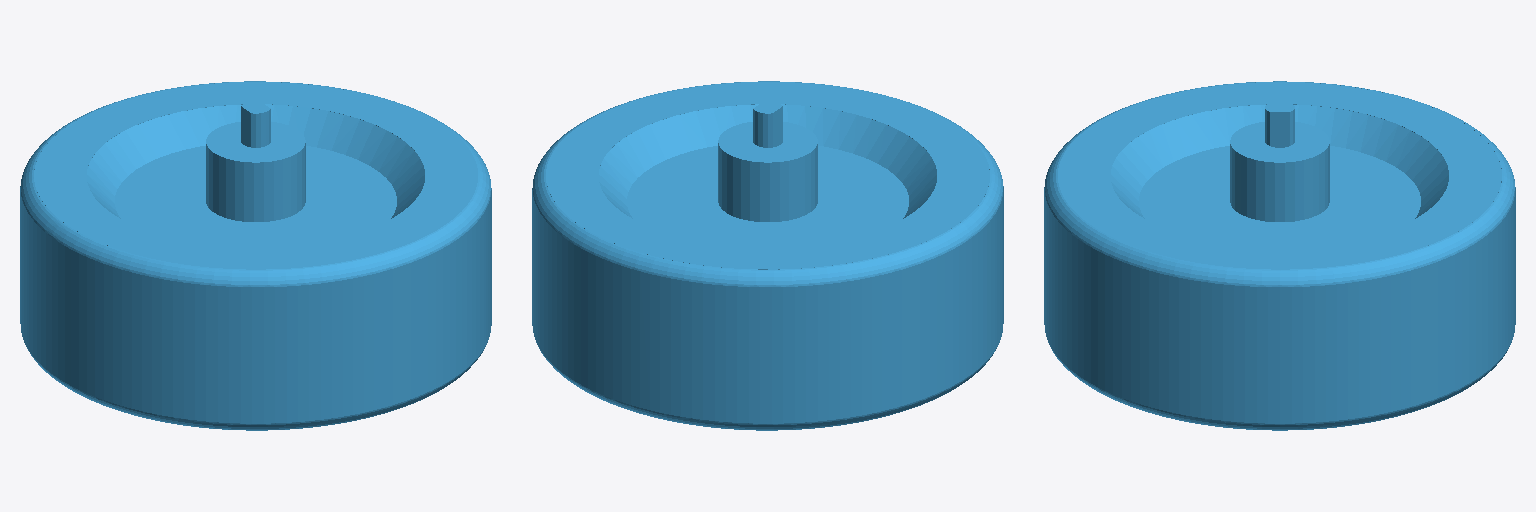
robot.urdf — drive_motor_device:
<?xml version="1.0" ?>
<robot name="drive_motor_device">

  <!-- ==================== Stator (Mount) ==================== -->
  <!-- The non-moving part of the motor that attaches to the robot chassis -->
  <link name="mount" />

  <!-- ==================== Motor Joint ==================== -->
  <joint name="motor_joint" type="continuous">
    <parent link="mount" />
    <child link="rotor_link" />
    <!-- Center of rotation. Default to Z-axis alignment for rotational motors -->
    <origin xyz="0 0 0" rpy="0 0 0" />
    <axis xyz="0 0 1" />
  </joint>

  <!-- ==================== Rotor (Spinning Hub/Wheel) ==================== -->
  <link name="rotor_link">
    <visual>
      <!-- The PROTO applies a rotation of (1, 0, 0, 1.5708) to the mesh -->
      <origin xyz="0 0 0" rpy="1.5708 0 0" />
      <geometry>
        <mesh filename="package://meshes/drive_motor.obj" />
      </geometry>
    </visual>
    <inertial>
      <origin xyz="0 0 0" rpy="0 0 0" />
      <!-- From PROTO default mass 0.8 -->
      <mass value="0.8" />
      <!-- Approximate cylinder inertia tensor (m=0.8, r=0.11, h=0.08) -->
      <!-- Ixx/Iyy = 1/12*m*(3*r^2 + h^2) = ~0.0028 -->
      <!-- Izz = 1/2*m*r^2 = ~0.0048 -->
      <inertia ixx="0.0028" ixy="0.0" ixz="0.0" iyy="0.0028" iyz="0.0" izz="0.0048" />
    </inertial>
  </link>

</robot>

--- What the picture shows (computed from the rendered views, not written in the file) ---
Views: 3 orthographic renders of the robot side by side, from view 1: azimuth 30°, elevation 25°; view 2: azimuth 150°, elevation 25°; view 3: azimuth 270°, elevation 25°.
Robot: drive_motor_device — 2 links, 1 joints (1 continuous); root link mount; default pose: all joints at 0.
Visible links, largest first — view 1: rotor_link; view 2: rotor_link; view 3: rotor_link.
Link boxes in pixels (x1,y1,x2,y2): rotor_link: (20, 81, 491, 430); rotor_link: (532, 81, 1003, 430); rotor_link: (1044, 81, 1515, 430).
Bounding box of the posed robot: 0.25 × 0.25 × 0.154 m (x, y, z).
1 mesh visuals loaded from 1 distinct referenced files (1 OBJ).
